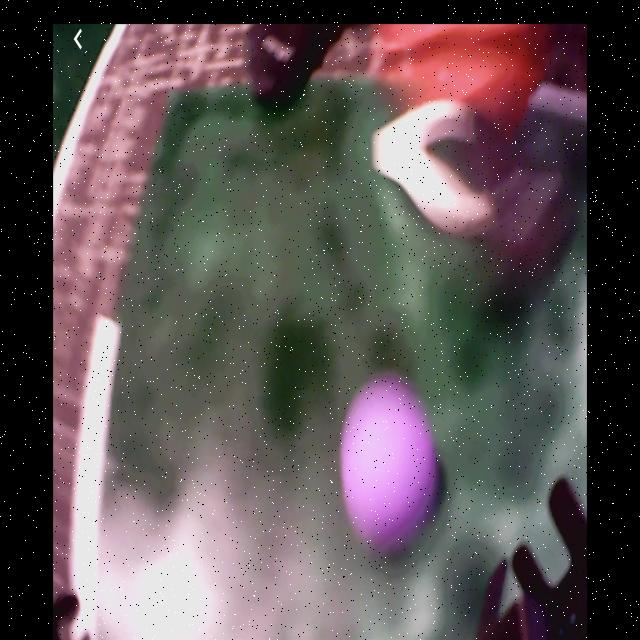ball: (344, 378, 440, 544)
